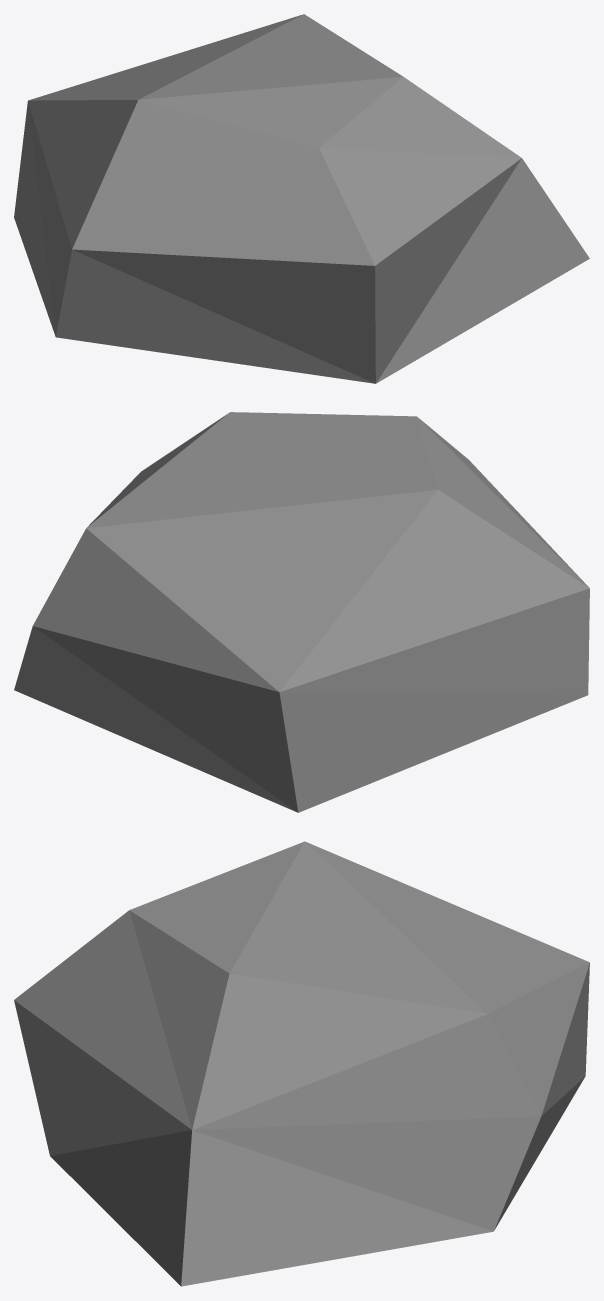
The model's file is rock.fbx.
3 views of the same model, one above another, from view 1: azimuth 30°, elevation 25°; view 2: azimuth 150°, elevation 25°; view 3: azimuth 270°, elevation 25° (orthographic). The views are drawn at different scales.
Parts seen in each view (by area): view 1: w; view 2: w; view 3: w.
Boxes of the visible parts, x1,y1,x2,y2 form: w: (14, 14, 589, 383); w: (14, 412, 589, 812); w: (14, 841, 589, 1286).
Size of the model in its own units: 111 by 47.81 by 99.83.
1 material, 1 textured.
